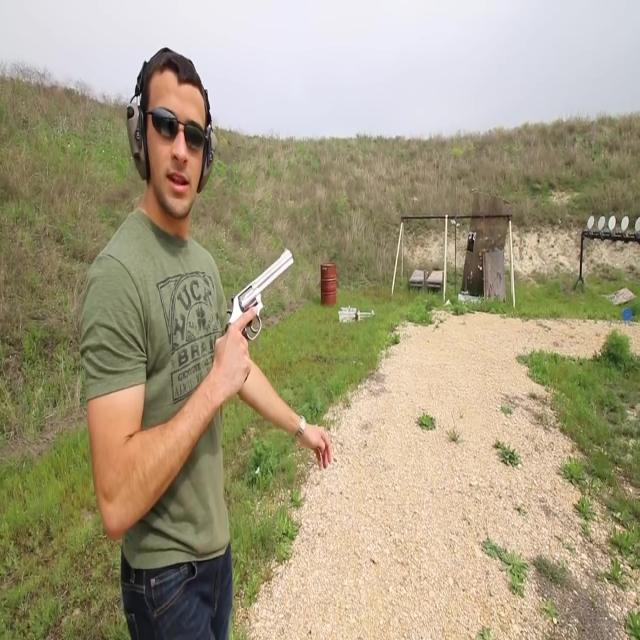Weapon: (203, 230, 326, 363)
